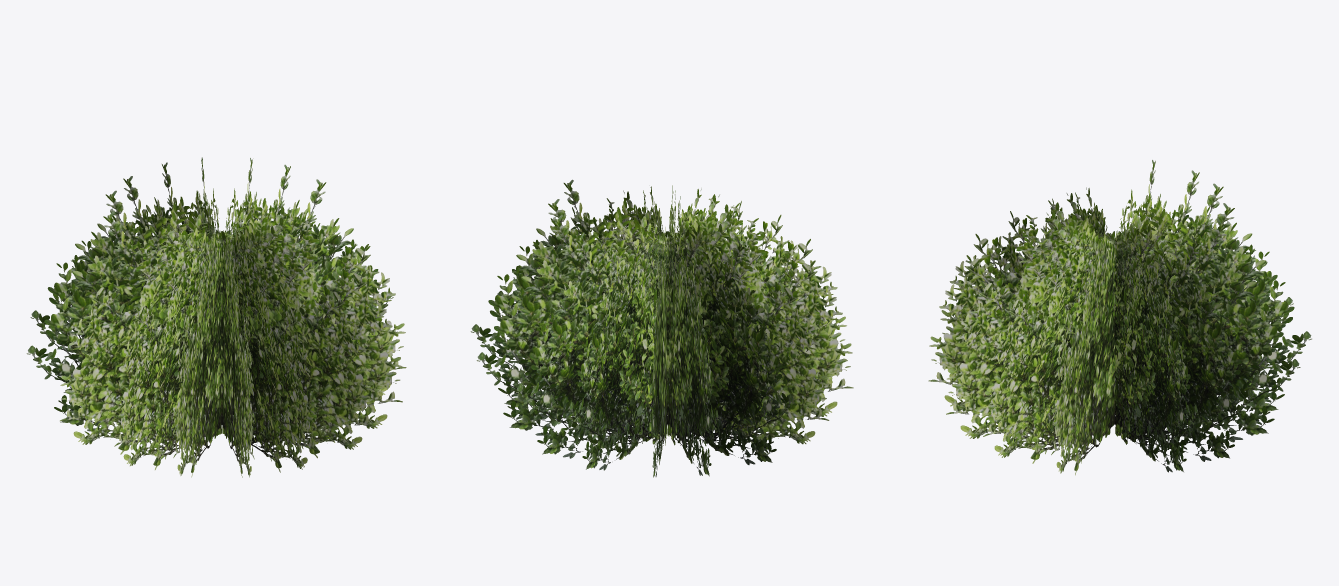
File: bush.fbx
The picture shows the model from 3 angles, left to right: view 1: azimuth 30°, elevation 25°; view 2: azimuth 150°, elevation 25°; view 3: azimuth 270°, elevation 25°; orthographic projection.
Parts seen in each view (by area): view 1: Plane; view 2: Plane; view 3: Plane.
Boxes of the visible parts, x1=… form: Plane: x1=26, y1=157, x2=406, y2=477; Plane: x1=470, y1=179, x2=853, y2=477; Plane: x1=928, y1=160, x2=1311, y2=475.
Size of the model in its own units: 200 by 200 by 200.
1 material, 1 textured.
